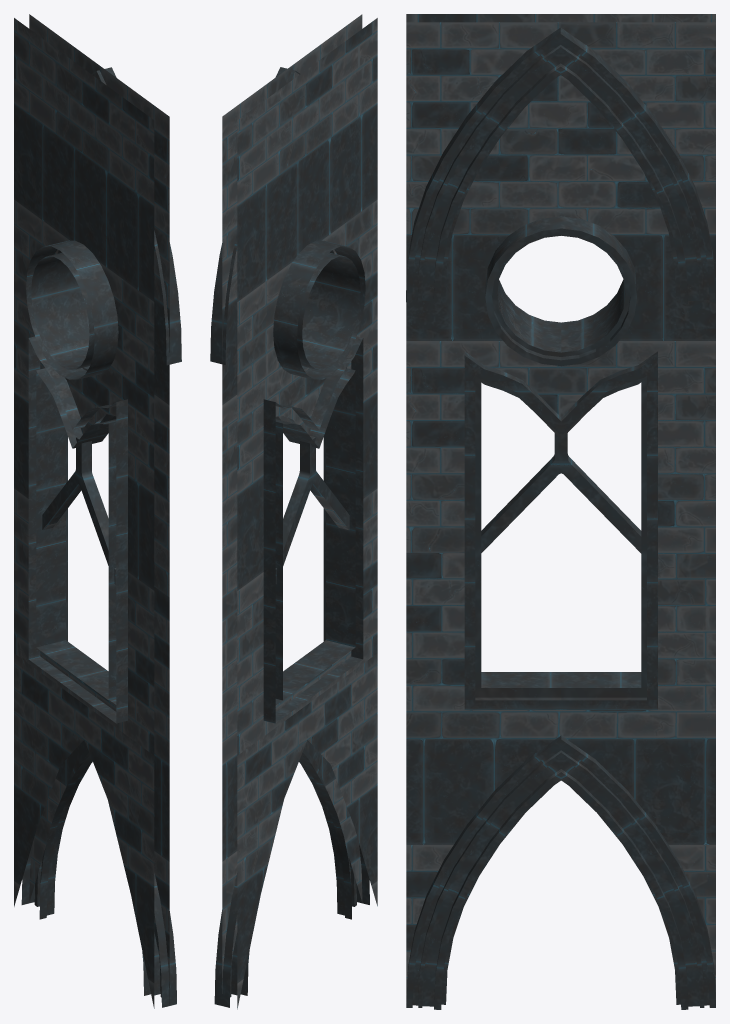
File: Cathedral_Apse_wall_1.fbx
3 views of the same model, side by side, from view 1: azimuth 30°, elevation 25°; view 2: azimuth 150°, elevation 25°; view 3: azimuth 270°, elevation 25° (orthographic). The views are drawn at different scales.
Visible parts, largest first — view 1: Apse_wall_1; view 2: Apse_wall_1; view 3: Apse_wall_1.
Part boxes in pixels (<box>): Apse_wall_1: <box>14,14,181,1008</box>; Apse_wall_1: <box>210,14,377,1009</box>; Apse_wall_1: <box>406,14,715,1009</box>.
Bounding box in the file's own units: 203 × 2803 × 801.
1 material, 1 textured.
